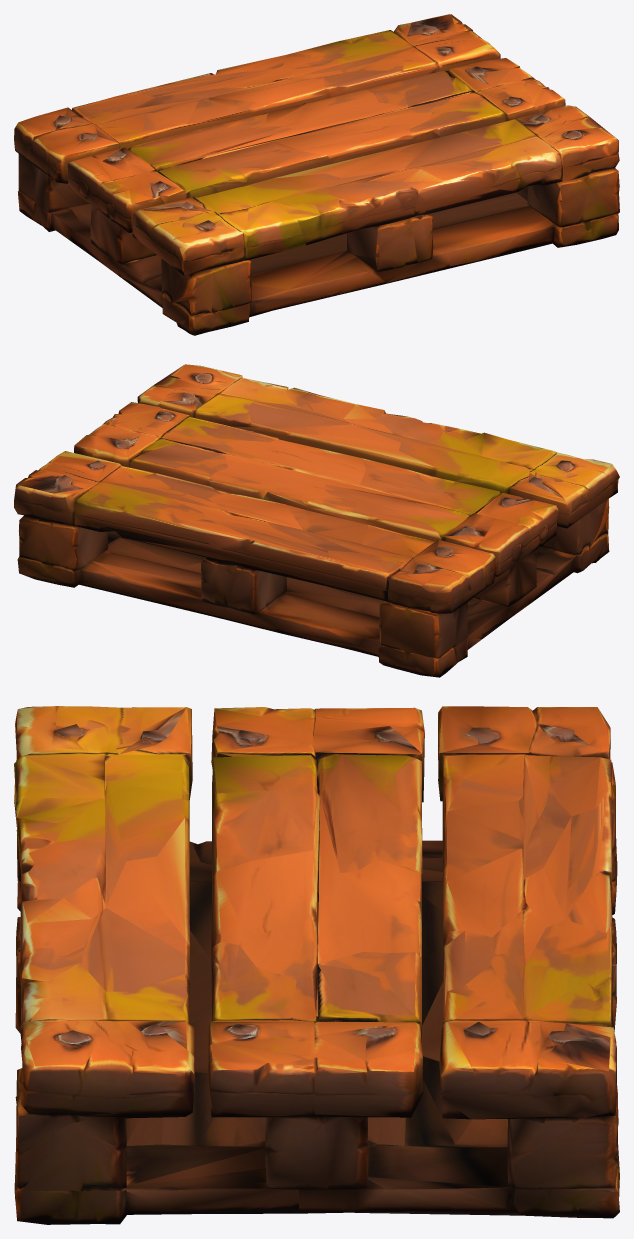
Rendered from CC_prop_wooden+pallet.fbx.
The picture shows the model from 3 angles, top to bottom: view 1: azimuth 30°, elevation 25°; view 2: azimuth 150°, elevation 25°; view 3: azimuth 270°, elevation 25°; orthographic projection. The views are drawn at different scales.
Visible parts, largest first — view 1: CC_prop_wooden+pallet_LOD0; view 2: CC_prop_wooden+pallet_LOD0; view 3: CC_prop_wooden+pallet_LOD0.
Part boxes in pixels (left/top/right/bottom): CC_prop_wooden+pallet_LOD0: left=14, top=14, right=619, bottom=335; CC_prop_wooden+pallet_LOD0: left=14, top=364, right=619, bottom=677; CC_prop_wooden+pallet_LOD0: left=14, top=706, right=619, bottom=1224.
Size of what is drawn, in the model's own units: 0.9819 by 0.2086 by 0.681.
